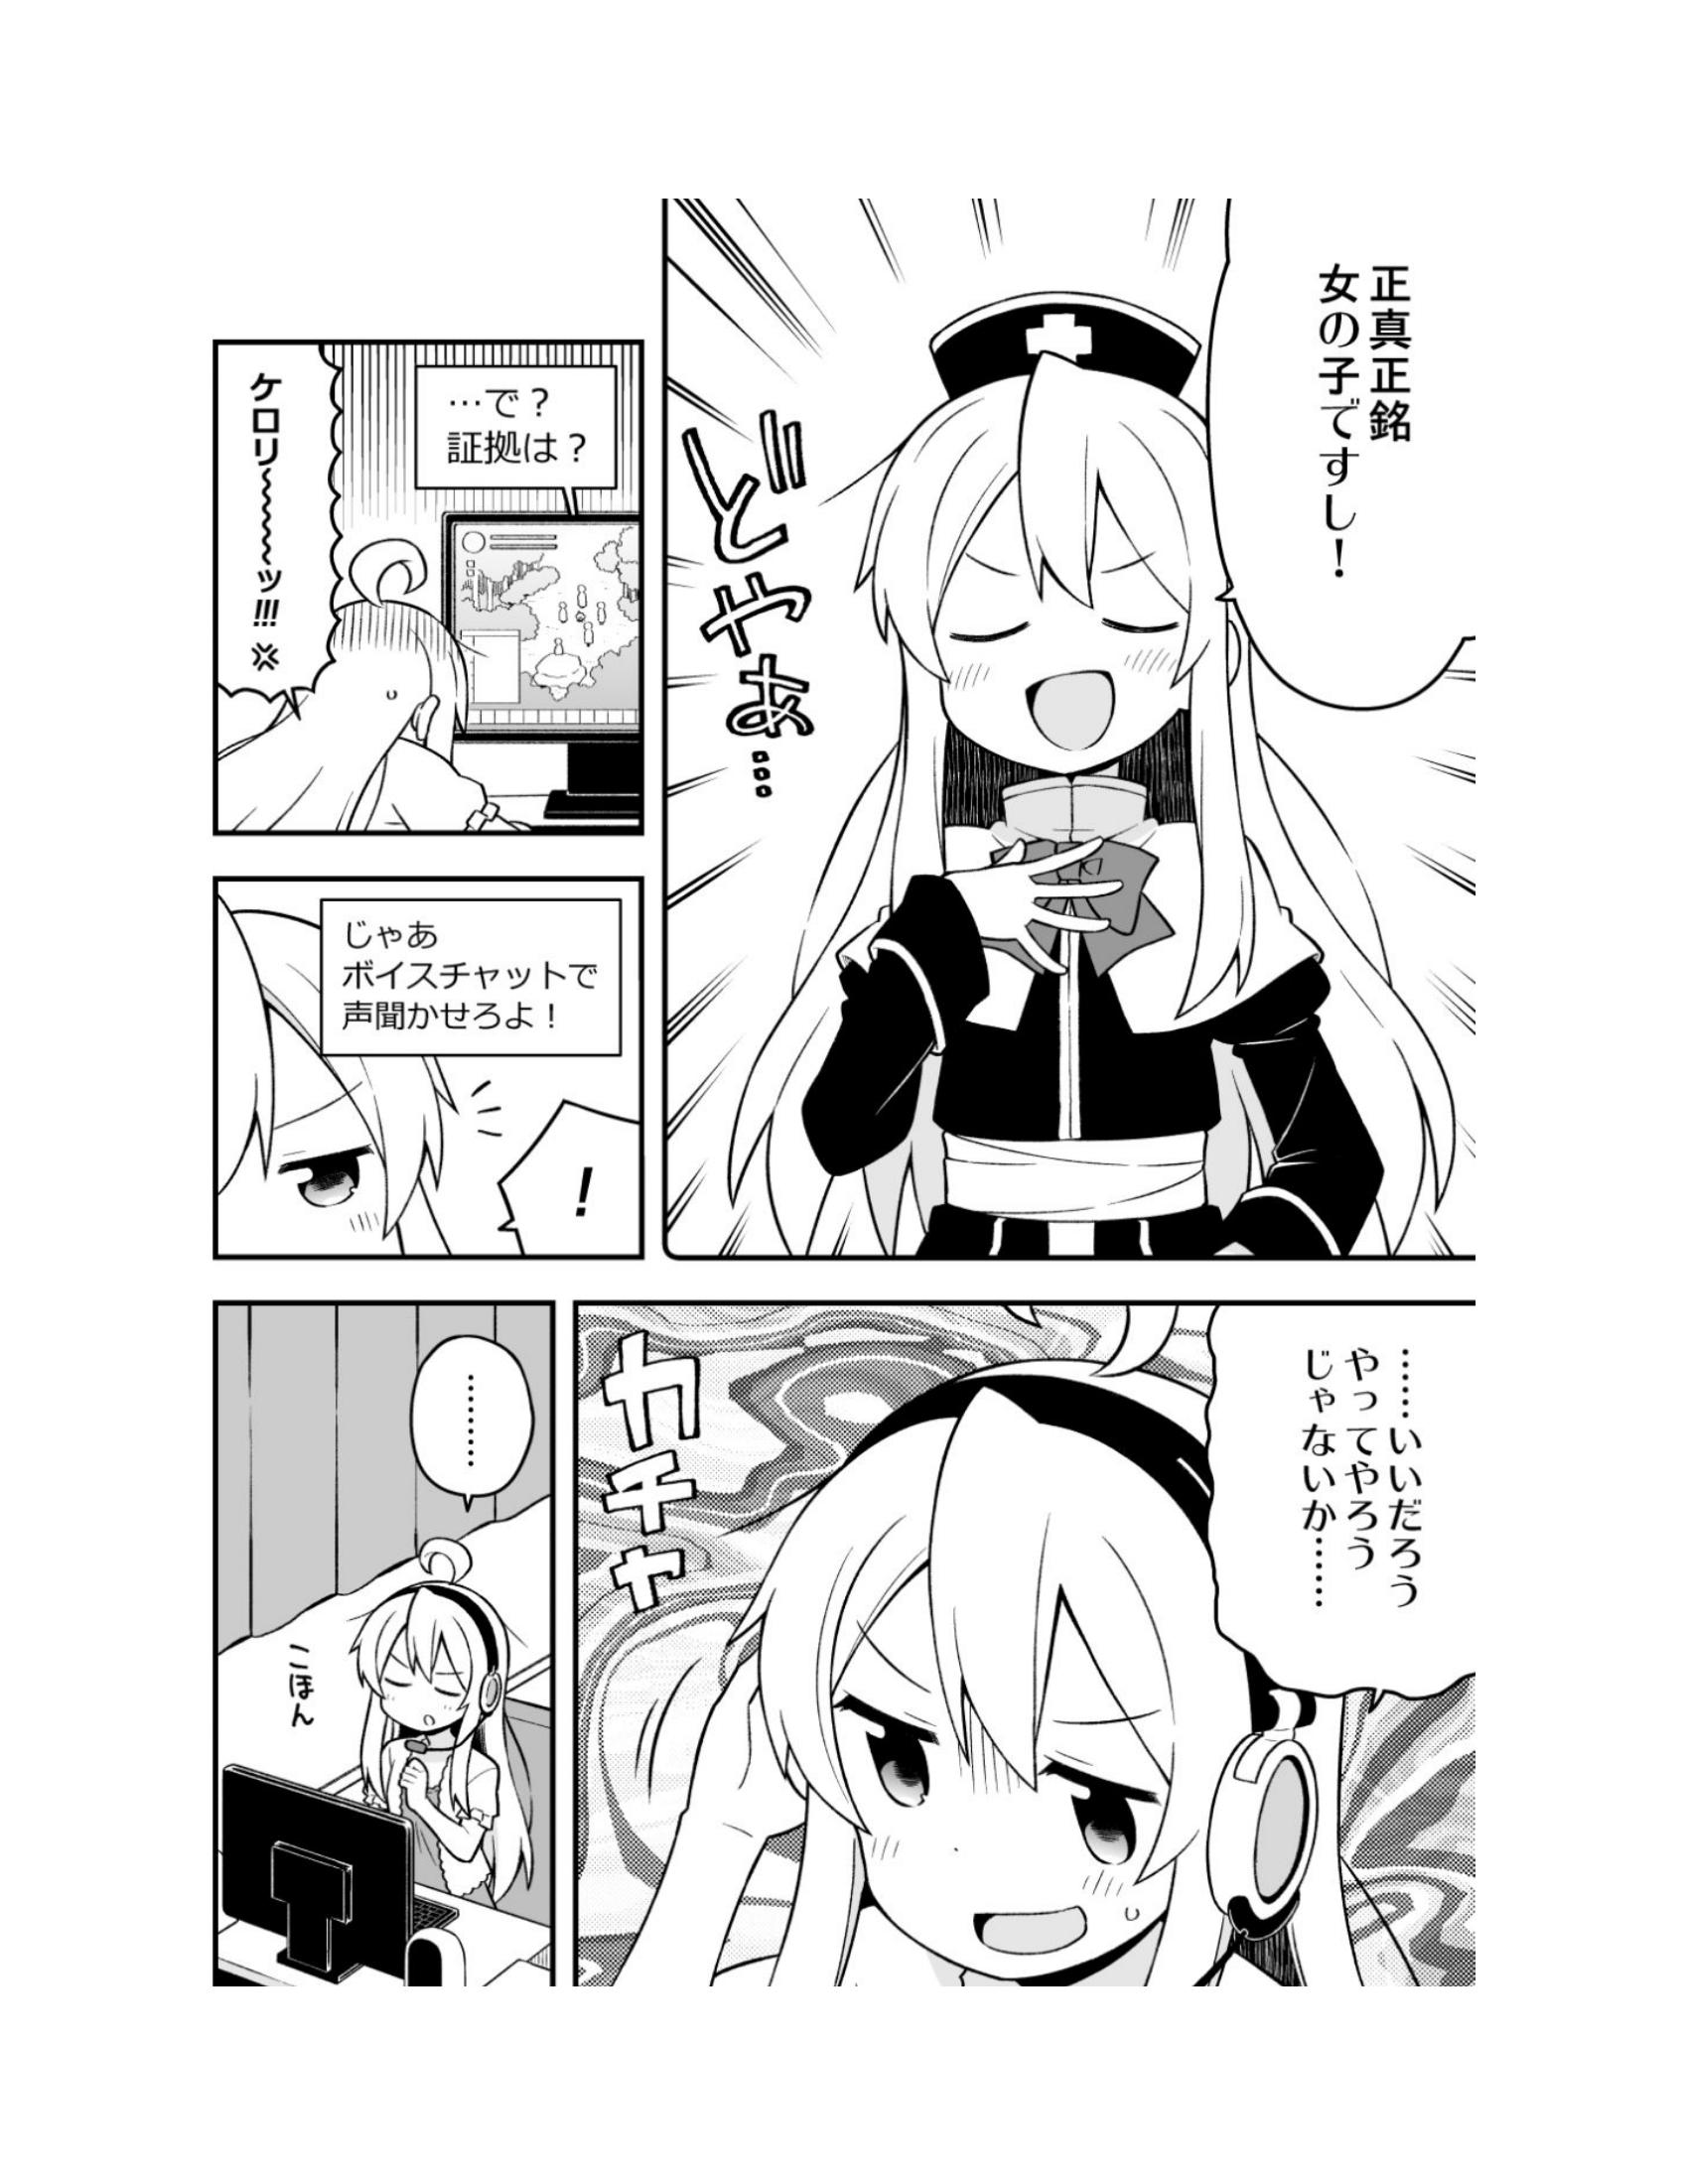a: (1163, 168, 1486, 730), (1207, 1303, 1500, 1750), (309, 888, 638, 1124), (200, 316, 365, 730), (402, 337, 628, 528)
